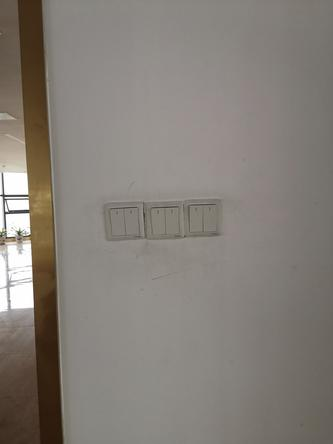switch: (107, 205, 127, 238), (162, 204, 182, 237), (124, 204, 142, 239), (201, 202, 221, 233), (149, 204, 168, 235), (188, 201, 204, 235)
